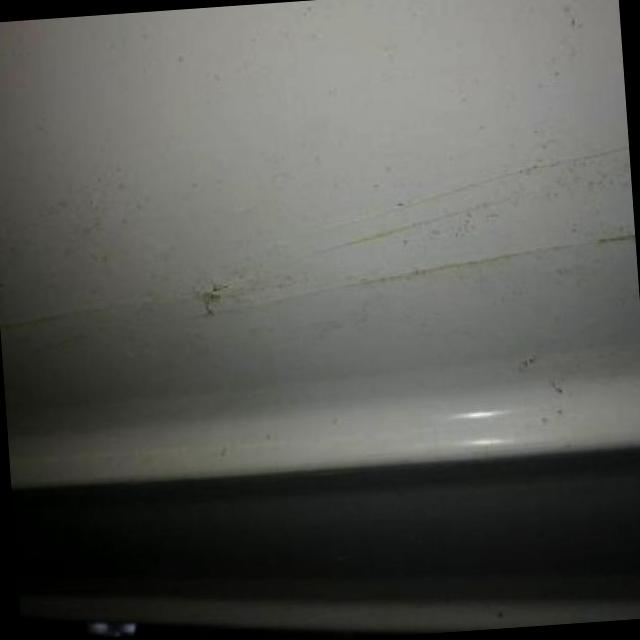crack: (257, 142, 629, 258), (264, 230, 635, 306), (270, 195, 519, 270), (190, 259, 246, 320)
